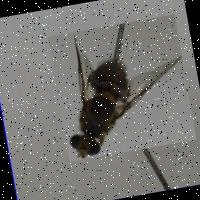Oriental-fruit-fly: (47, 13, 196, 160)
